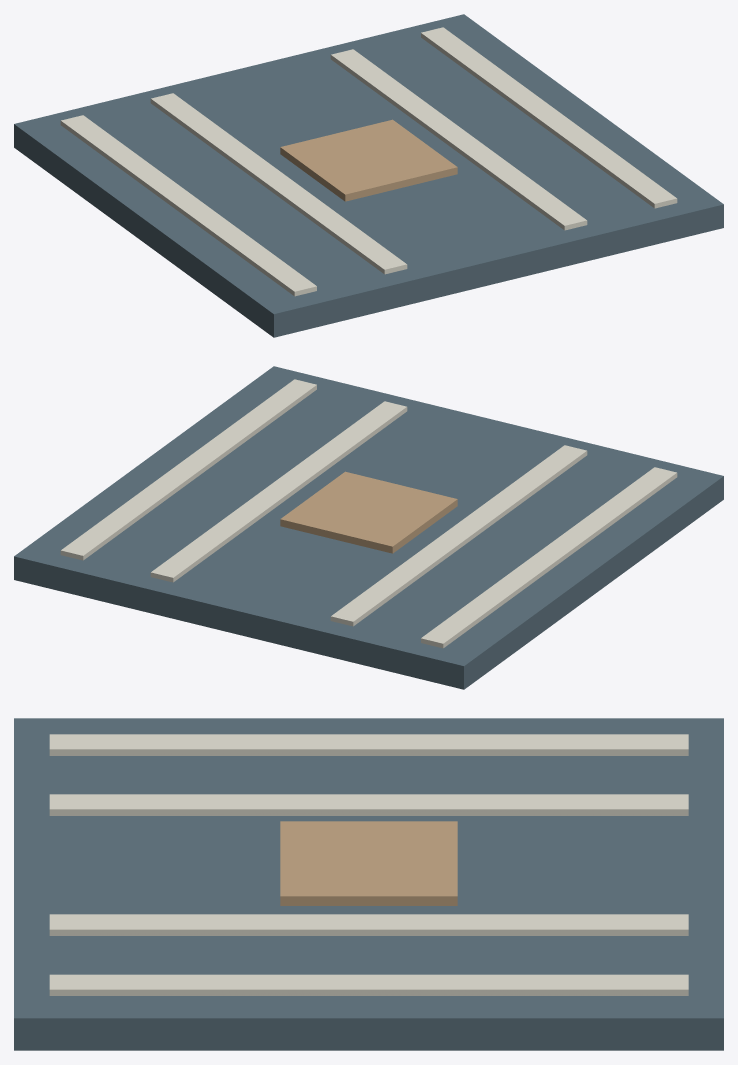
File: voxel-city-districts-tree-grille-a202b972__24865.glb
3 renders of one model, top to bottom at view 1: azimuth 30°, elevation 25°; view 2: azimuth 150°, elevation 25°; view 3: azimuth 270°, elevation 25°, orthographic. The views are drawn at different scales.
Visible parts, largest first — view 1: tree-grille-dark, tree-grille-concrete, tree-grille-wood; view 2: tree-grille-dark, tree-grille-concrete, tree-grille-wood; view 3: tree-grille-dark, tree-grille-concrete, tree-grille-wood.
Boxes of the visible parts, bbox=[...] form: tree-grille-dark: bbox=[14, 14, 723, 337]; tree-grille-concrete: bbox=[60, 27, 677, 296]; tree-grille-wood: bbox=[280, 119, 457, 201]; tree-grille-dark: bbox=[14, 366, 723, 689]; tree-grille-concrete: bbox=[60, 379, 677, 648]; tree-grille-wood: bbox=[280, 471, 457, 553]; tree-grille-dark: bbox=[14, 718, 723, 1050]; tree-grille-concrete: bbox=[49, 734, 688, 995]; tree-grille-wood: bbox=[280, 821, 457, 905].
Size of the model in its own units: 2 by 0.13 by 2.
